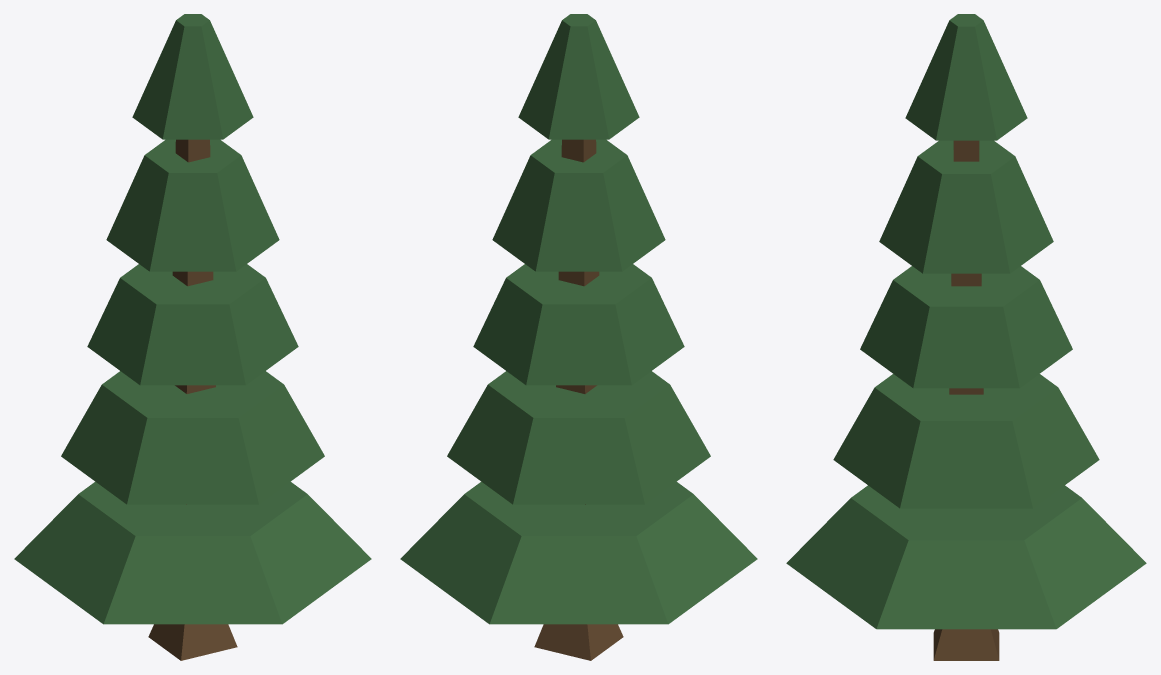
The model's file is pine-round.glb.
The picture shows the model from 3 angles, left to right: view 1: azimuth 30°, elevation 25°; view 2: azimuth 150°, elevation 25°; view 3: azimuth 270°, elevation 25°; orthographic projection.
Parts seen in each view (by area): view 1: tree_pineRoundA; view 2: tree_pineRoundA; view 3: tree_pineRoundA.
Part boxes in pixels (bbox=[...]): tree_pineRoundA: bbox=[14, 14, 371, 660]; tree_pineRoundA: bbox=[400, 14, 757, 660]; tree_pineRoundA: bbox=[786, 14, 1146, 660].
Size of the model in its own units: 0.8128 by 1.8 by 0.9386.
